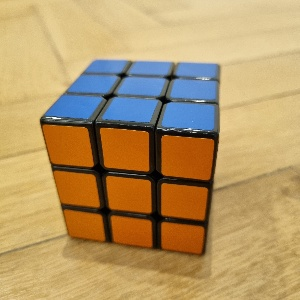cube: (40, 60, 222, 258)
